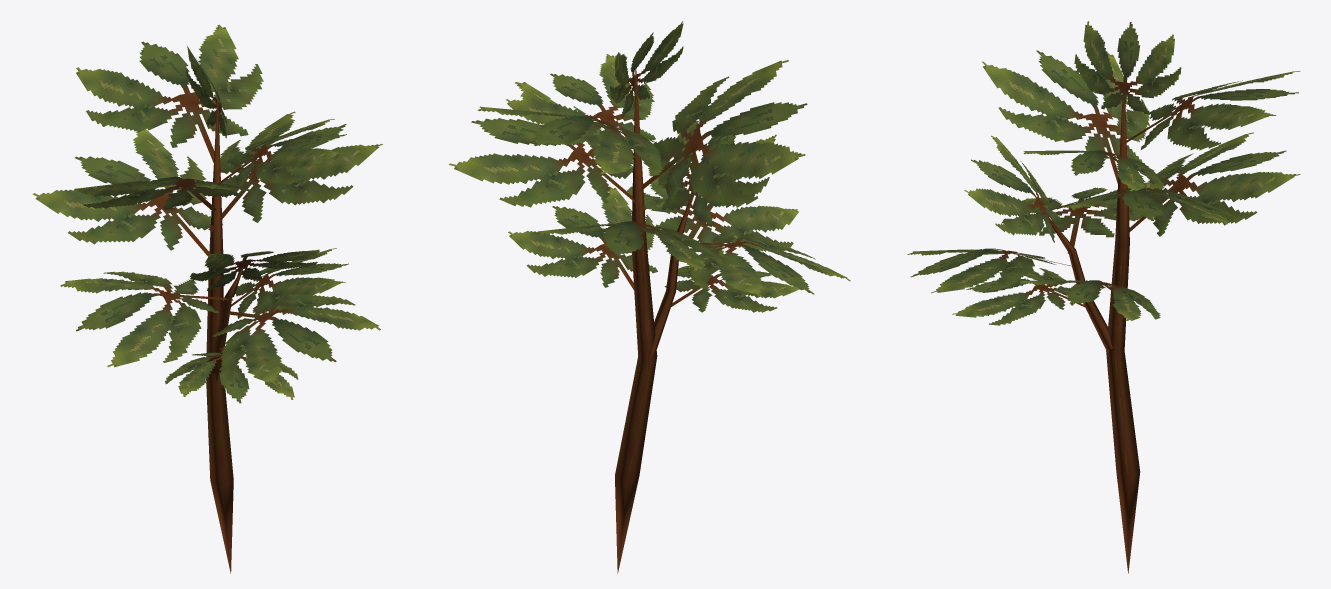
Rendered from daihuacao_53_42_8210out.fbx.
3 renders of one model, left to right at view 1: azimuth 30°, elevation 25°; view 2: azimuth 150°, elevation 25°; view 3: azimuth 270°, elevation 25°, orthographic. The views are drawn at different scales.
Visible parts, largest first — view 1: daihuacao; view 2: daihuacao; view 3: daihuacao.
Boxes of the visible parts, bbox=[...] form: daihuacao: bbox=[32, 24, 382, 573]; daihuacao: bbox=[449, 21, 850, 573]; daihuacao: bbox=[907, 21, 1300, 573].
Size of the model in its own units: 0.6525 by 1.03 by 0.7301.
